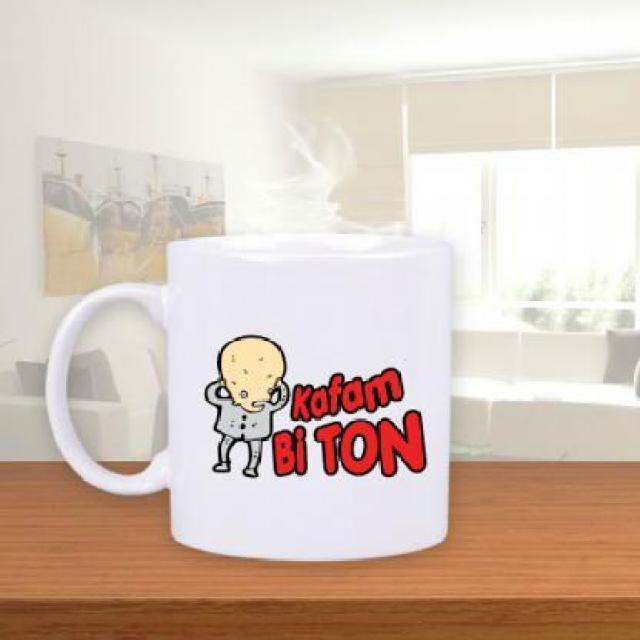taza: (46, 228, 452, 560)
